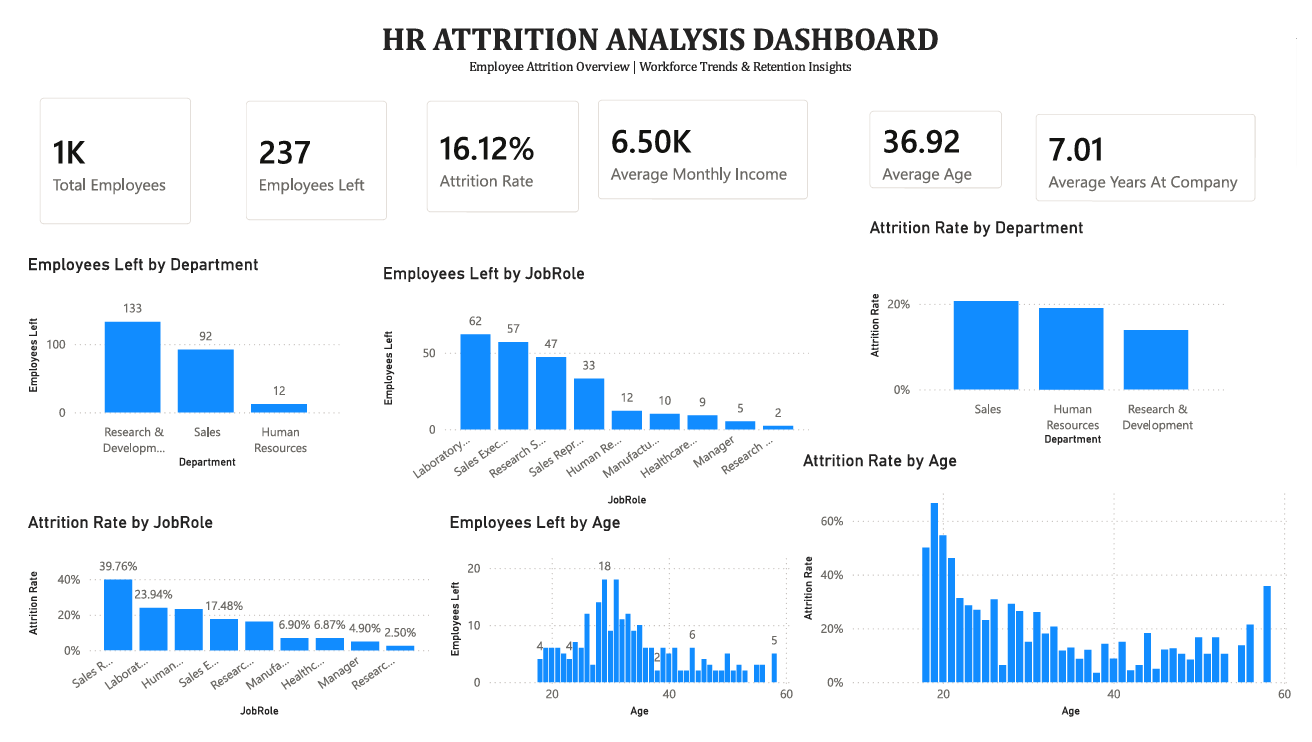

What the dashboard file says about the page in this screenshot:
{"tool":"powerbi","page":{"name":"Page 1","canvas":[1280,720],"ordinal":0},"visuals":[{"type":"cardVisual","fields":{"Data":["HR.Total Employees"]},"box":[0,51.4,186.6,161.9],"z":0},{"type":"cardVisual","fields":{"Data":["HR.Employees Left"]},"box":[187.1,52.9,187,162],"z":1000},{"type":"cardVisual","fields":{"Data":["HR.Attrition Rate"]},"box":[374.3,67.1,187,162],"z":2000},{"type":"cardVisual","fields":{"Data":["HR.Average Monthly Income"]},"box":[561.4,68.6,274.4,161.9],"z":3000},{"type":"cardVisual","fields":{"Data":["HR.Average Age"]},"box":[804.3,75.7,167.1,112.9],"z":4000},{"type":"cardVisual","fields":{"Data":["HR.Average Years At Company"]},"box":[958.6,90,255.7,122.9],"z":5000},{"type":"clusteredColumnChart","fields":{"Category":["HR.Department"],"Y":["HR.Employees Left"]},"box":[0,250,322.9,220],"z":6000},{"type":"clusteredColumnChart","fields":{"Y":["HR.Employees Left"],"Category":["HR.JobRole"]},"box":[357.1,258.6,437.7,249.7],"z":7000},{"type":"clusteredColumnChart","fields":{"Category":["HR.JobRole"],"Y":["HR.Attrition Rate"]},"box":[0,508.6,412.9,211.4],"z":8000},{"type":"clusteredColumnChart","fields":{"Y":["HR.Attrition Rate"],"Category":["HR.Department"]},"box":[845.7,212.9,368.6,234.3],"z":9000},{"type":"clusteredColumnChart","fields":{"Category":["HR.Age"],"Y":["HR.Employees Left"]},"box":[424.3,508.6,354.3,211.4],"z":10000},{"type":"clusteredColumnChart","fields":{"Category":["HR.Age"],"Y":["HR.Attrition Rate"]},"box":[778.6,447.1,501.4,272.9],"z":11000},{"type":"textbox","box":[322.9,10,635.7,80],"z":12000}]}

Visuals, with their boxes in screenshot pixels (x1, y1, x2, y2), scaled from the page's 1280x720 canvas onto the 1312x742 screenshot:
cardVisual - HR.Total Employees: <box>0,53,191,220</box>
cardVisual - HR.Employees Left: <box>192,55,383,221</box>
cardVisual - HR.Attrition Rate: <box>384,69,575,236</box>
cardVisual - HR.Average Monthly Income: <box>575,71,857,238</box>
cardVisual - HR.Average Age: <box>824,78,996,194</box>
cardVisual - HR.Average Years At Company: <box>983,93,1245,219</box>
clusteredColumnChart - HR.Department x HR.Employees Left: <box>0,258,331,484</box>
clusteredColumnChart - HR.Employees Left x HR.JobRole: <box>366,267,815,524</box>
clusteredColumnChart - HR.JobRole x HR.Attrition Rate: <box>0,524,423,741</box>
clusteredColumnChart - HR.Attrition Rate x HR.Department: <box>867,219,1245,461</box>
clusteredColumnChart - HR.Age x HR.Employees Left: <box>435,524,798,741</box>
clusteredColumnChart - HR.Age x HR.Attrition Rate: <box>798,461,1311,741</box>
textbox: <box>331,10,983,93</box>
